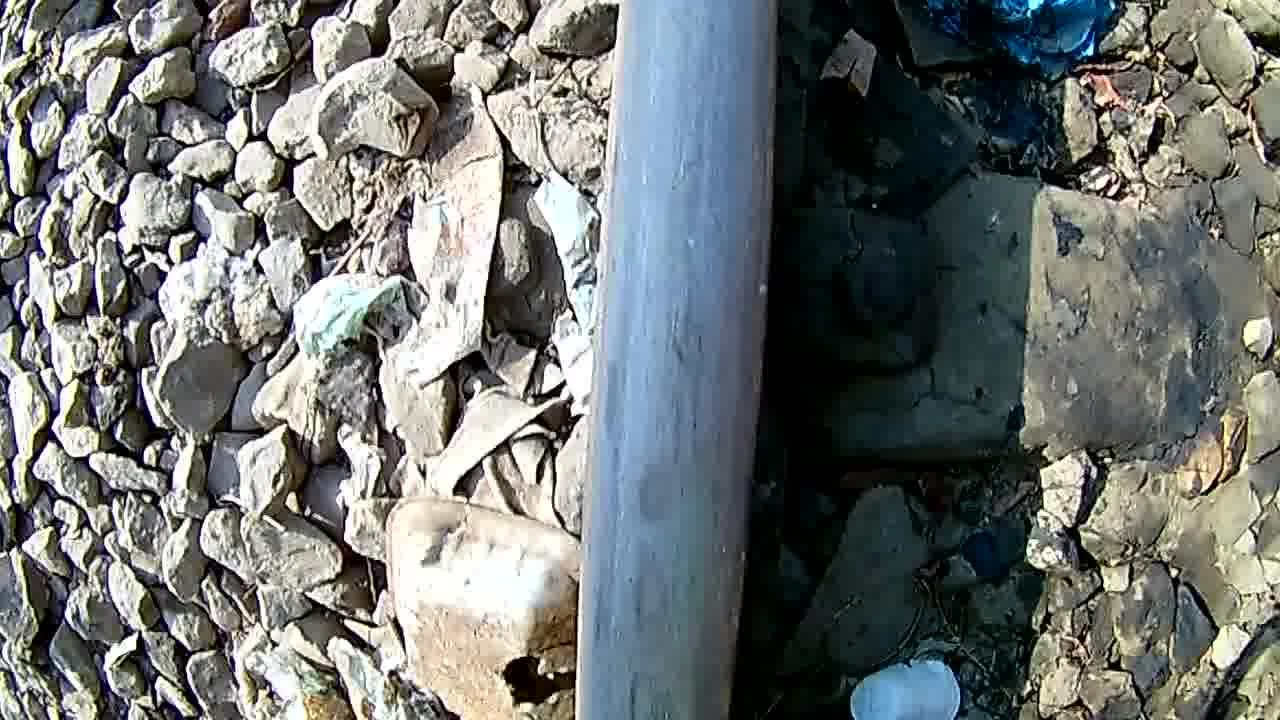bolt_missing: (569, 242, 767, 720)
